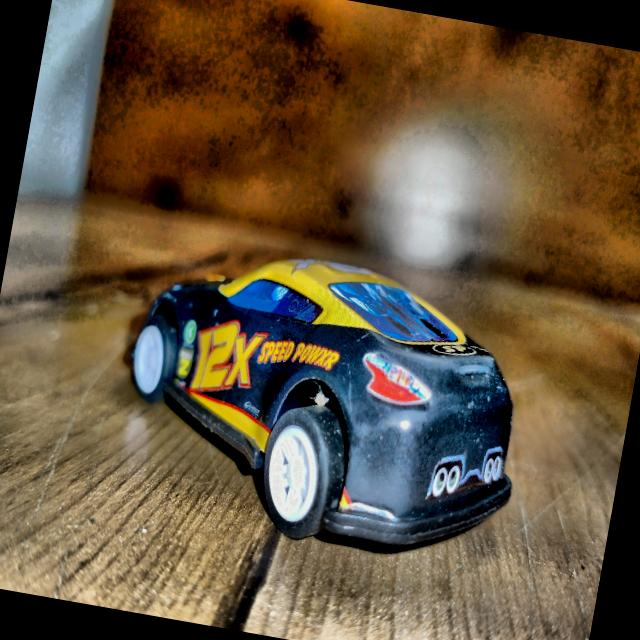Car: (106, 231, 544, 574)
